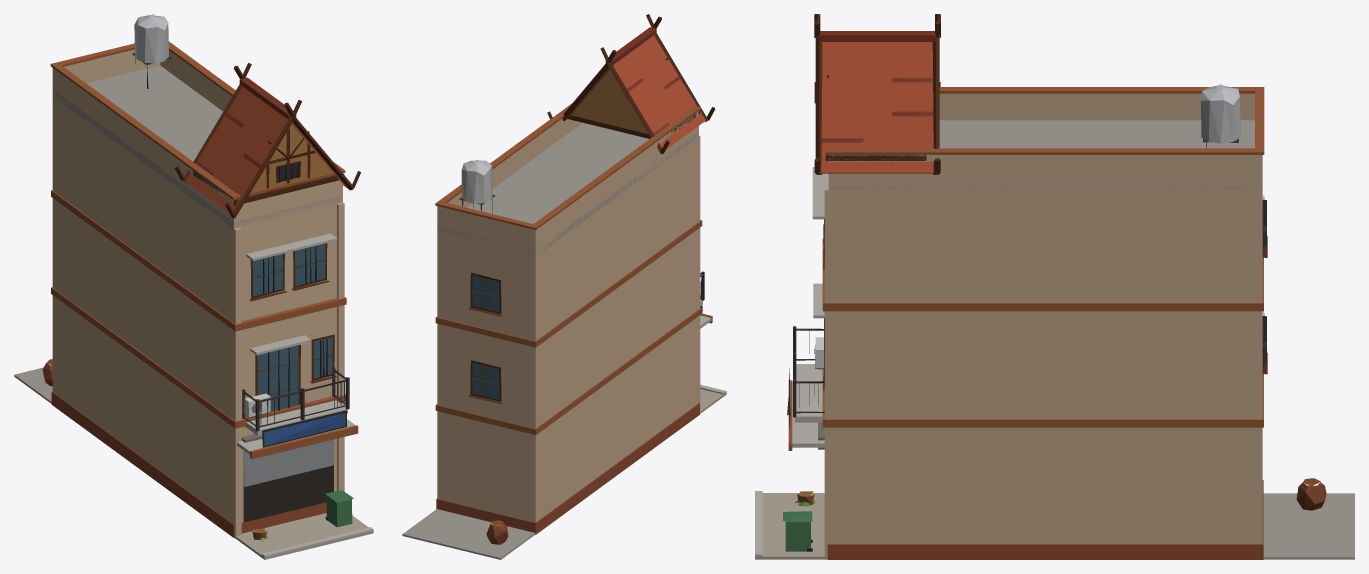
Rendered from bay2_mid.glb.
3 renders of one model, left to right at view 1: azimuth 30°, elevation 25°; view 2: azimuth 150°, elevation 25°; view 3: azimuth 270°, elevation 25°, orthographic. The views are drawn at different scales.
Visible parts, largest first — view 1: body, windows; view 2: body, windows; view 3: body.
Boxes of the visible parts, x1=… form: body: x1=14, y1=14, x2=373, y2=559; windows: x1=243, y1=161, x2=333, y2=522; body: x1=402, y1=14, x2=726, y2=559; windows: x1=472, y1=275, x2=499, y2=399; body: x1=755, y1=14, x2=1354, y2=559.
Bounding box in the file's own units: 4.98 × 15.23 × 15.9.
